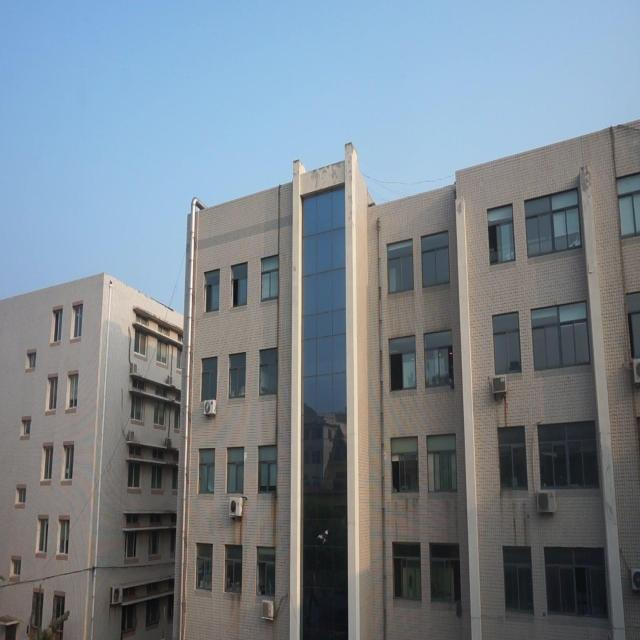drone: (317, 528, 330, 545)
